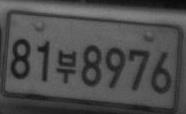1: (35, 41, 56, 82)
6: (150, 51, 172, 94)
7: (128, 48, 151, 90)
8: (9, 38, 32, 80), (80, 43, 102, 86)
9: (104, 46, 126, 89)
부: (55, 49, 76, 84)
